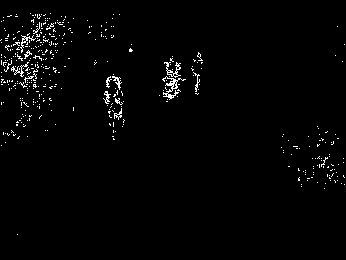person: (102, 74, 131, 144)
